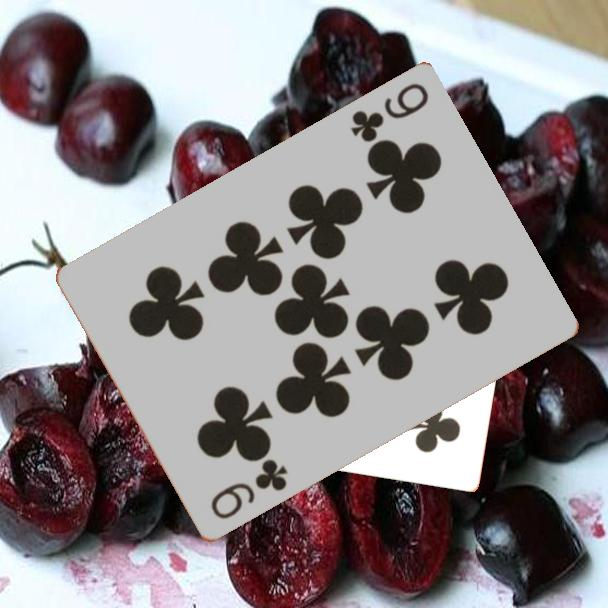c09: (206, 456, 291, 523), (347, 80, 432, 146)
